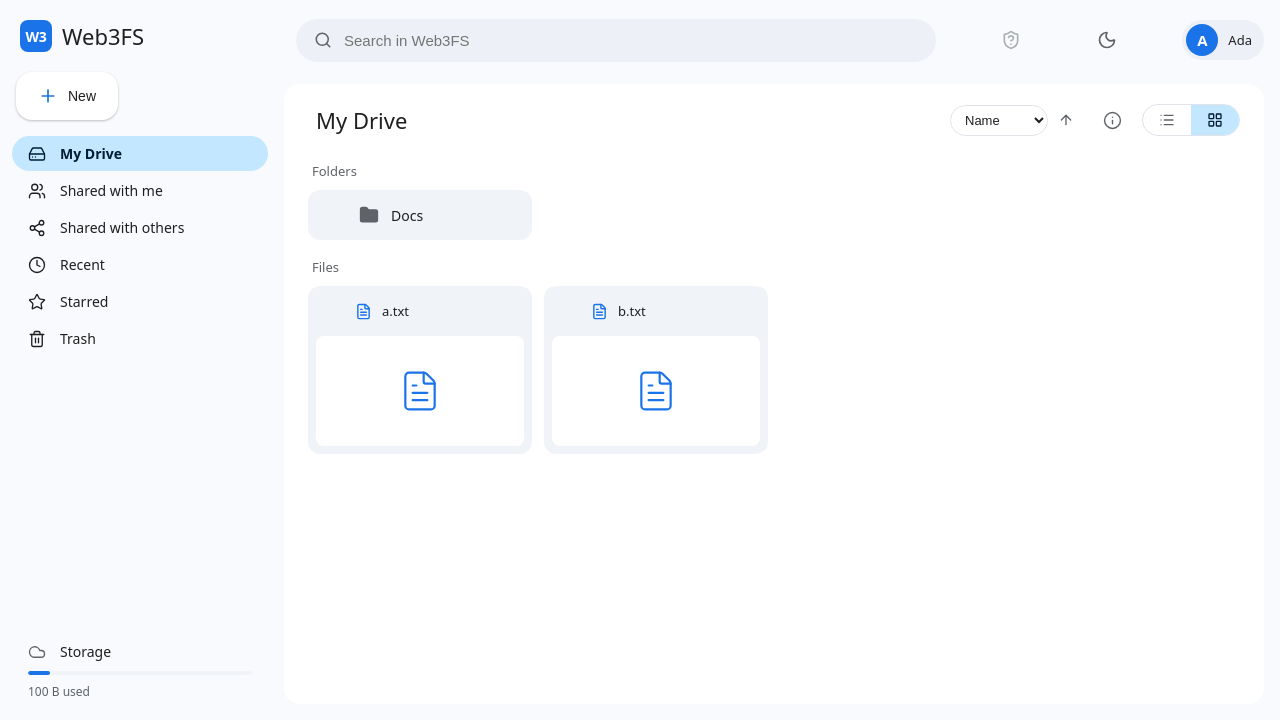
Test: list view and sorting › switching to list view renders the table with folders and files
Step 1. Click the button titled "list view" → (1167, 120), box [1143,105,1191,135]
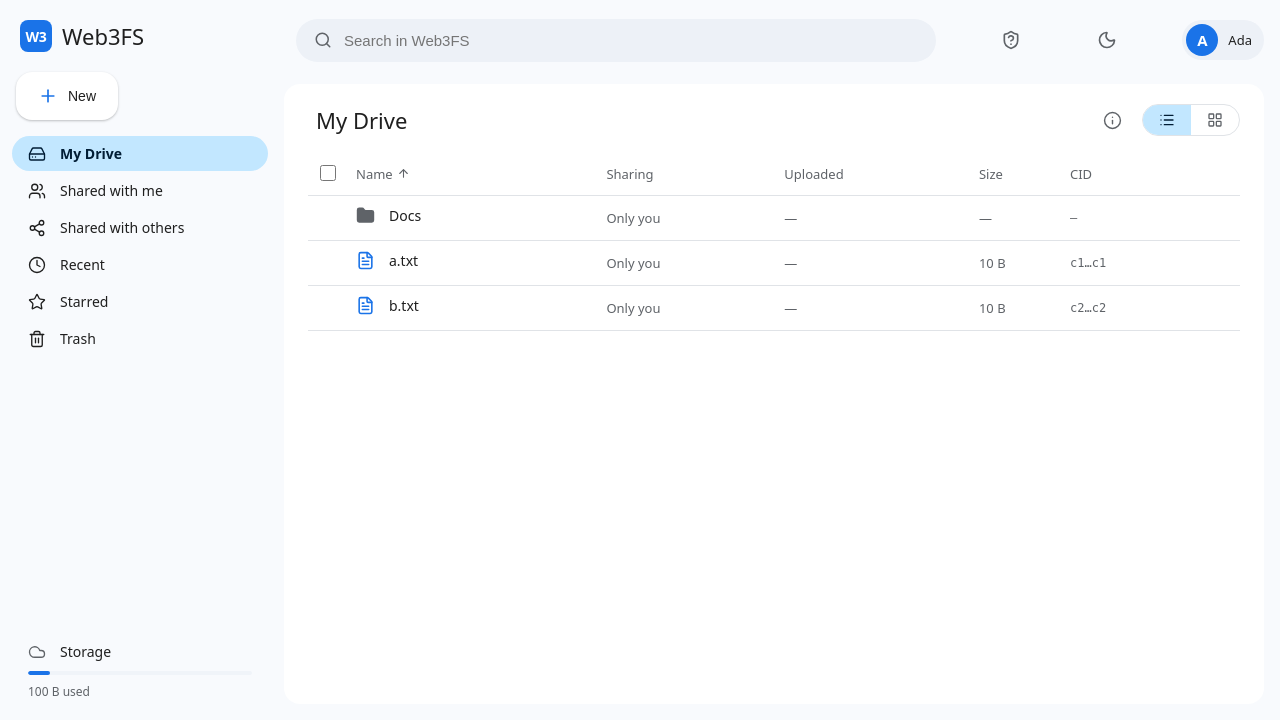
Expected: the text "Docs" is shown, [348,196,605,235]
Now the column heading "Sharing" is shown, box [605,152,783,196]
Now the column heading "CID" is shown, box [1069,152,1190,196]
